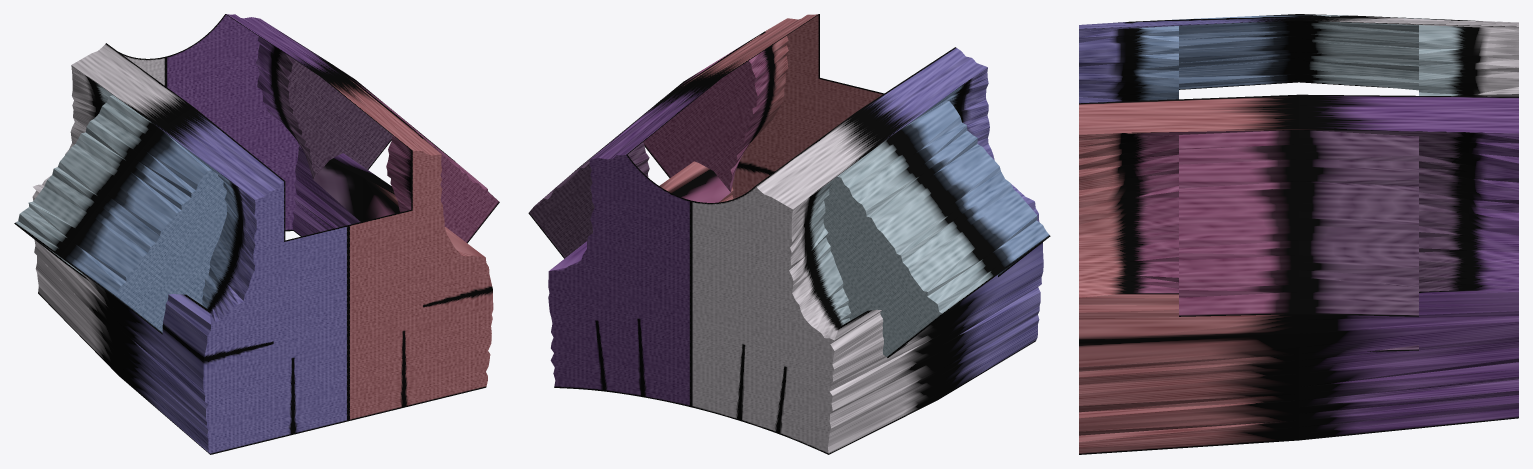
File: valid_garment_upper_boxmesh.obj
3 views of the same model, side by side, from view 1: azimuth 30°, elevation 25°; view 2: azimuth 150°, elevation 25°; view 3: azimuth 270°, elevation 25° (orthographic). The views are drawn at different scales.
Bounding box in the file's own units: 68.58 × 43.63 × 55.
1 material, 1 textured.
